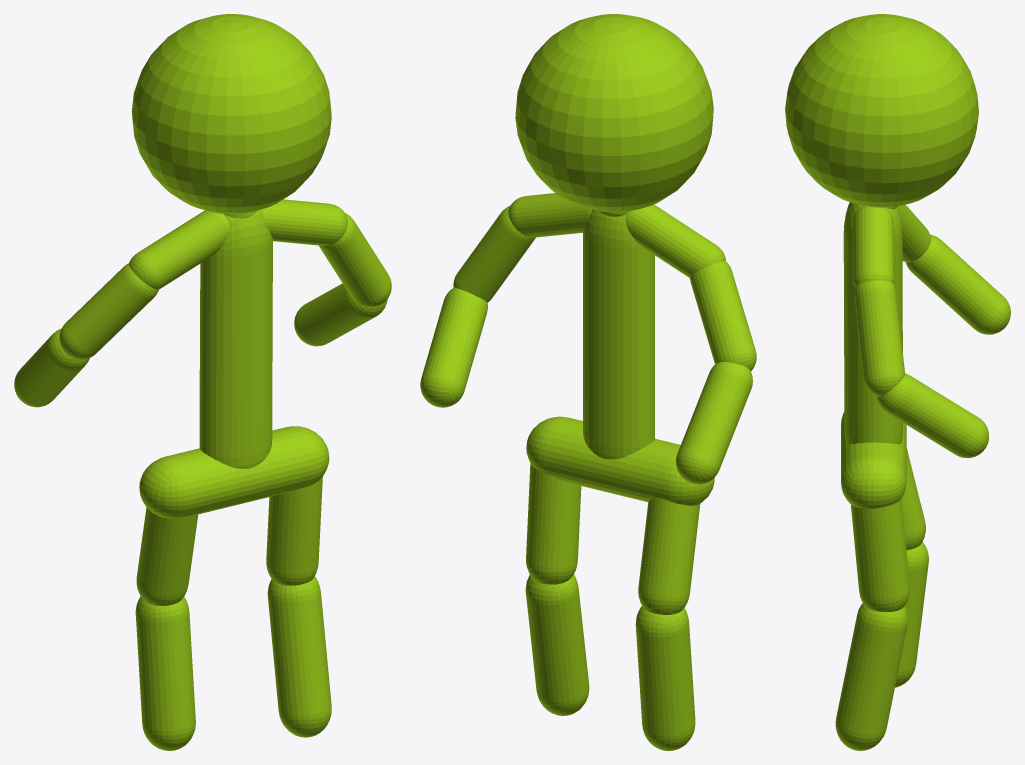
File: Stickman_000016.obj
3 renders of one model, left to right at view 1: azimuth 30°, elevation 25°; view 2: azimuth 150°, elevation 25°; view 3: azimuth 270°, elevation 25°, orthographic. The views are drawn at different scales.
Parts seen in each view (by area): view 1: Head_Sphere.001, Body_Roundcube.002, Hip_Roundcube.005, LowerLegLeft_Roundcube.013, LowerLegRight_Roundcube.011, UpperLegLeft_Roundcube.012, UpperLegRight_Roundcube.010, UpperArmRight_Roundcube.015, ShoulderRight_Roundcube.014, UpperArmLeft_Roundcube.018, ShoulderLeft_Roundcube.017, LowerArmLeft_Roundcube.019 (+1 smaller); view 2: Head_Sphere.001, Body_Roundcube.002, Hip_Roundcube.005, LowerLegRight_Roundcube.011, LowerLegLeft_Roundcube.013, UpperLegRight_Roundcube.010, LowerArmRight_Roundcube.016, UpperLegLeft_Roundcube.012, LowerArmLeft_Roundcube.019, UpperArmRight_Roundcube.015, ShoulderRight_Roundcube.014, UpperArmLeft_Roundcube.018 (+1 smaller); view 3: Head_Sphere.001, LowerLegLeft_Roundcube.013, Body_Roundcube.002, UpperLegLeft_Roundcube.012, LowerArmRight_Roundcube.016, LowerArmLeft_Roundcube.019, UpperArmLeft_Roundcube.018, Hip_Roundcube.005, ShoulderLeft_Roundcube.017, LowerLegRight_Roundcube.011, UpperLegRight_Roundcube.010, UpperArmRight_Roundcube.015.
Part boxes in pixels (bbox=[...]): Head_Sphere.001: bbox=[131, 14, 331, 214]; Body_Roundcube.002: bbox=[199, 209, 272, 468]; Hip_Roundcube.005: bbox=[139, 426, 329, 518]; LowerLegLeft_Roundcube.013: bbox=[267, 576, 331, 737]; LowerLegRight_Roundcube.011: bbox=[135, 596, 195, 750]; UpperLegLeft_Roundcube.012: bbox=[266, 476, 322, 585]; UpperLegRight_Roundcube.010: bbox=[136, 507, 198, 605]; UpperArmRight_Roundcube.015: bbox=[59, 263, 158, 359]; ShoulderRight_Roundcube.014: bbox=[128, 210, 229, 289]; UpperArmLeft_Roundcube.018: bbox=[319, 213, 391, 307]; ShoulderLeft_Roundcube.017: bbox=[262, 199, 347, 245]; LowerArmLeft_Roundcube.019: bbox=[294, 283, 387, 346]; Head_Sphere.001: bbox=[515, 14, 713, 212]; Body_Roundcube.002: bbox=[583, 209, 654, 459]; Hip_Roundcube.005: bbox=[526, 416, 714, 505]; LowerLegRight_Roundcube.011: bbox=[635, 606, 695, 750]; LowerLegLeft_Roundcube.013: bbox=[525, 574, 589, 715]; UpperLegRight_Roundcube.010: bbox=[638, 498, 700, 614]; LowerArmRight_Roundcube.016: bbox=[676, 362, 752, 484]; UpperLegLeft_Roundcube.012: bbox=[526, 463, 581, 584]; LowerArmLeft_Roundcube.019: bbox=[420, 287, 487, 407]; UpperArmRight_Roundcube.015: bbox=[690, 261, 756, 370]; ShoulderRight_Roundcube.014: bbox=[625, 204, 725, 277]; UpperArmLeft_Roundcube.018: bbox=[453, 206, 535, 302]; Head_Sphere.001: bbox=[785, 14, 978, 207]; LowerLegLeft_Roundcube.013: bbox=[835, 603, 908, 750]; Body_Roundcube.002: bbox=[843, 202, 903, 444]; UpperLegLeft_Roundcube.012: bbox=[851, 499, 909, 611]; LowerArmRight_Roundcube.016: bbox=[905, 234, 1010, 334]; LowerArmLeft_Roundcube.019: bbox=[876, 373, 988, 458]; UpperArmLeft_Roundcube.018: bbox=[854, 280, 904, 396]; Hip_Roundcube.005: bbox=[841, 412, 906, 508]; ShoulderLeft_Roundcube.017: bbox=[852, 206, 894, 287]; LowerLegRight_Roundcube.011: bbox=[895, 542, 928, 687]; UpperLegRight_Roundcube.010: bbox=[901, 448, 925, 550]; UpperArmRight_Roundcube.015: bbox=[898, 204, 930, 262].
Size of the model in its own units: 4.92 by 10.54 by 3.1.
